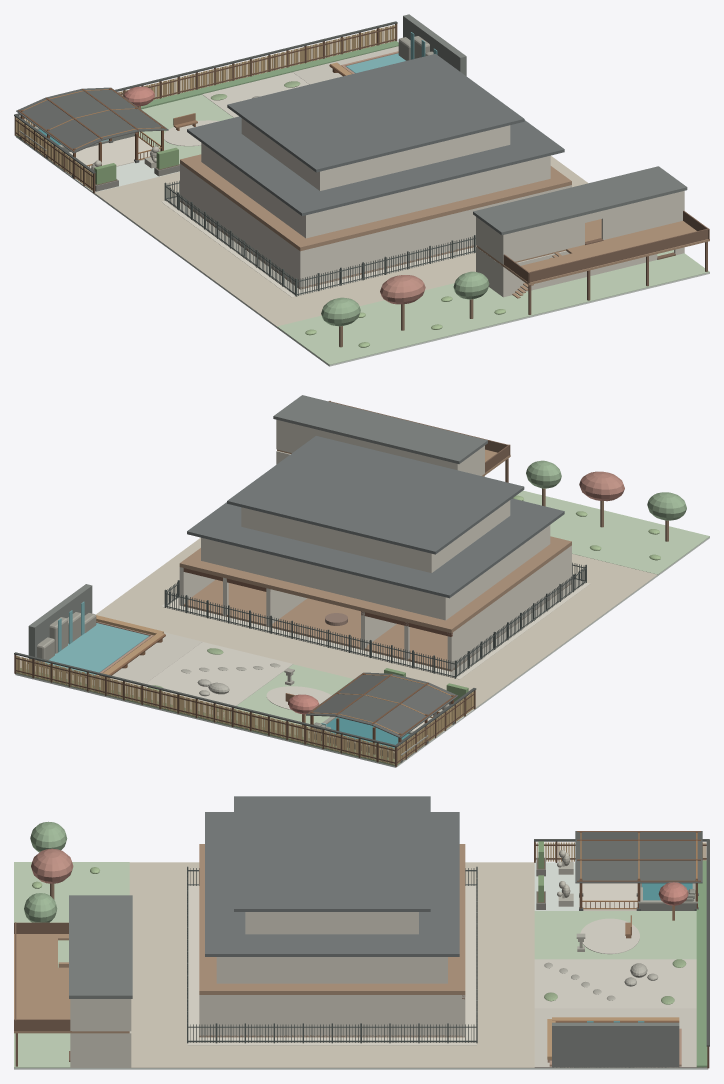
Rendered from zen-original.glb.
The picture shows the model from 3 angles, top to bottom: view 1: azimuth 30°, elevation 25°; view 2: azimuth 150°, elevation 25°; view 3: azimuth 270°, elevation 25°; orthographic projection. The views are drawn at different scales.
Parts seen in each view (by area): view 1: SHRINE | upper roof, ZONE | South lawn | 42 x 10 m, SHRINE | second tier roof, SHRINE | second floor mass, SHRINE | lower hall wall | south, SHOP | roof, SHRINE | second floor deck, Path | west courtyard edge | 5 m wide, SHRINE | third floor mass, Path | south cross-site | 5 m wide, SHRINE | lower hall wall | east, SHOP | upper | rear east (+28 smaller); view 2: SHRINE | upper roof, SHRINE | second tier roof, Path | north cross-site | 5 m wide, SHRINE | second floor mass, SHRINE | base platform | 30 x 23 m, ZONE | South lawn | 42 x 10 m, SHOP | roof, SHRINE | second floor deck, Path | west courtyard edge | 5 m wide, SHRINE | third floor mass, DRY GARDEN | gravel field, SHRINE | lower hall wall | east (+25 smaller); view 3: SHRINE | upper roof, SHRINE | second tier roof, Path | north cross-site | 5 m wide, Path | south cross-site | 5 m wide, DRY GARDEN | gravel field, SHRINE | lower hall wall | west, Path | east courtyard edge | 5 m wide, SHOP | roof, SHRINE | second floor mass, ZONE | North garden grass, ZONE | South lawn | 42 x 10 m, WATERFALL | full height wall (+31 smaller).
Part boxes in pixels (bbox=[...]): SHRINE | upper roof: bbox=[227, 54, 524, 172]; ZONE | South lawn | 42 x 10 m: bbox=[277, 250, 709, 364]; SHRINE | second tier roof: bbox=[187, 116, 564, 215]; SHRINE | second floor mass: bbox=[201, 143, 550, 238]; SHRINE | lower hall wall | south: bbox=[298, 185, 571, 288]; SHOP | roof: bbox=[473, 166, 687, 235]; SHRINE | second floor deck: bbox=[180, 154, 571, 251]; Path | west courtyard edge | 5 m wide: bbox=[120, 202, 291, 307]; SHRINE | third floor mass: bbox=[241, 118, 510, 190]; Path | south cross-site | 5 m wide: bbox=[251, 253, 475, 326]; SHRINE | lower hall wall | east: bbox=[221, 194, 302, 289]; SHOP | upper | rear east: bbox=[601, 191, 684, 239]; SHRINE | upper roof: bbox=[227, 436, 524, 554]; SHRINE | second tier roof: bbox=[187, 498, 564, 598]; Path | north cross-site | 5 m wide: bbox=[96, 596, 500, 707]; SHRINE | second floor mass: bbox=[201, 525, 550, 620]; SHRINE | base platform | 30 x 23 m: bbox=[180, 579, 570, 671]; ZONE | South lawn | 42 x 10 m: bbox=[516, 490, 709, 574]; SHOP | roof: bbox=[273, 395, 487, 463]; SHRINE | second floor deck: bbox=[179, 536, 571, 633]; Path | west courtyard edge | 5 m wide: bbox=[460, 584, 631, 689]; SHRINE | third floor mass: bbox=[241, 500, 510, 572]; DRY GARDEN | gravel field: bbox=[132, 642, 292, 715]; SHRINE | lower hall wall | east: bbox=[493, 545, 571, 638]; SHRINE | upper roof: bbox=[234, 796, 430, 911]; SHRINE | second tier roof: bbox=[205, 812, 459, 956]; Path | north cross-site | 5 m wide: bbox=[477, 862, 534, 1067]; Path | south cross-site | 5 m wide: bbox=[129, 862, 187, 1067]; DRY GARDEN | gravel field: bbox=[534, 959, 696, 1008]; SHRINE | lower hall wall | west: bbox=[199, 995, 372, 1036]; Path | east courtyard edge | 5 m wide: bbox=[187, 1045, 476, 1067]; SHOP | roof: bbox=[69, 895, 132, 998]; SHRINE | second floor mass: bbox=[216, 957, 447, 983]; ZONE | North garden grass: bbox=[534, 911, 696, 959]; ZONE | South lawn | 42 x 10 m: bbox=[14, 862, 129, 1067]; WATERFALL | full height wall: bbox=[552, 1022, 679, 1067].
Size of the model in its own units: 42.5 by 10.89 by 60.14.
